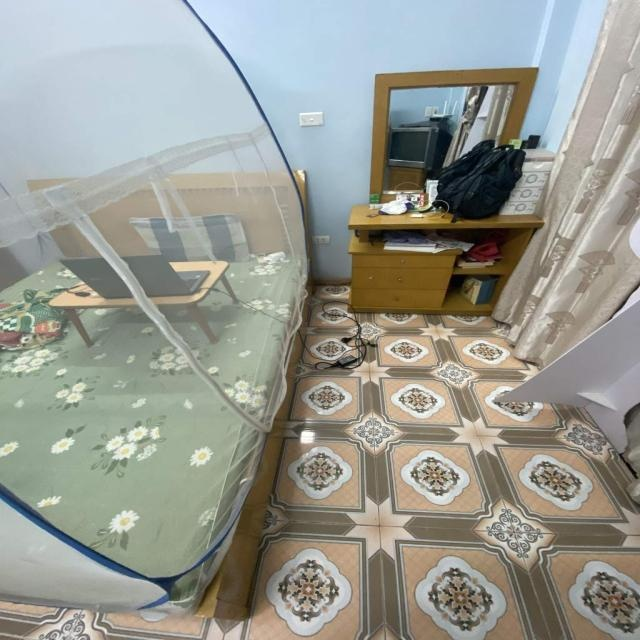outlet: (306, 235, 334, 249)
